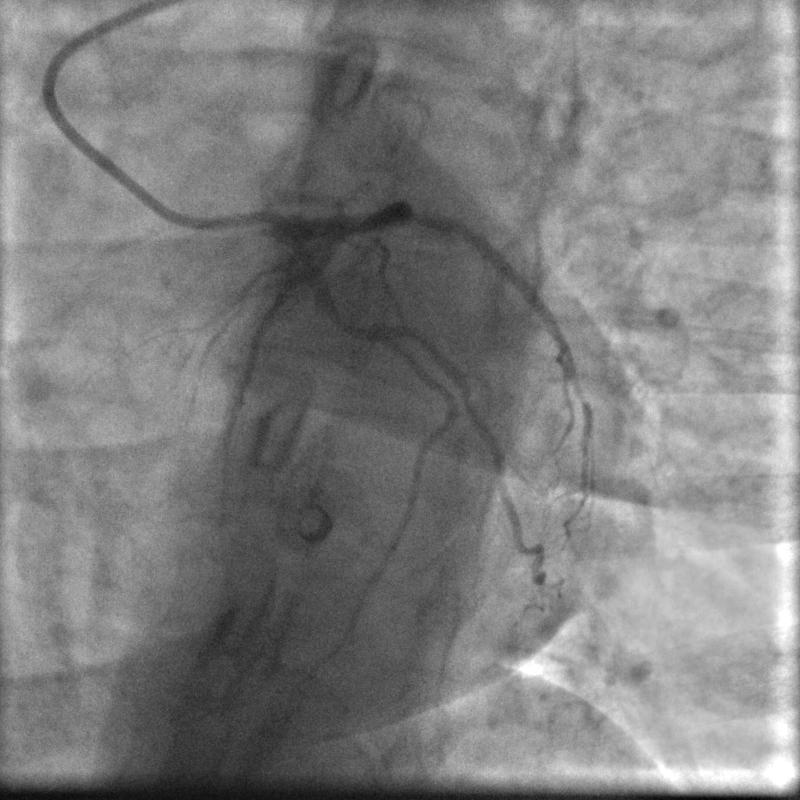Stenosis: (334, 302, 384, 343)
